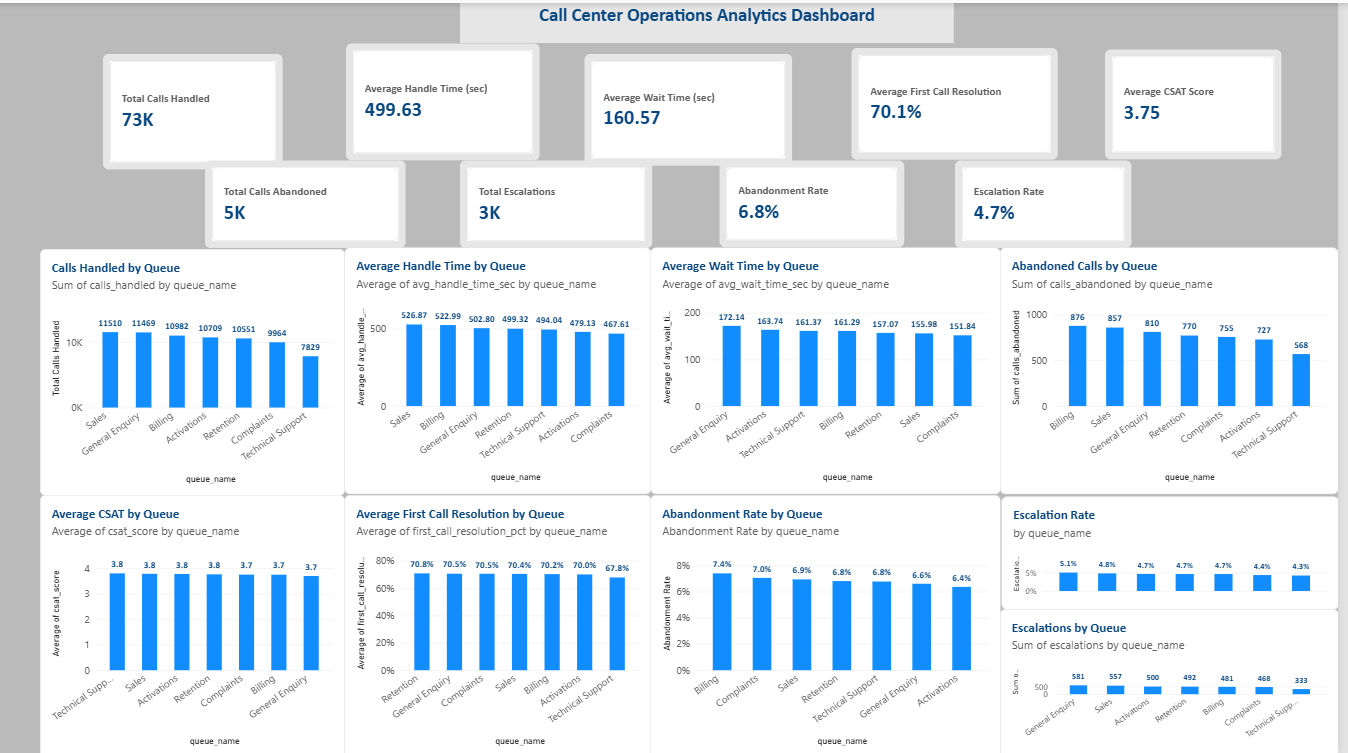

Layout of this report page (visuals, bound fields, positions):
{"tool":"powerbi","page":{"name":"Page 1","canvas":[1920,1080],"ordinal":0},"visuals":[{"type":"clusteredColumnChart","title":"Calls Handled by Queue","fields":{"Category":["call-center-performance.queue_name"],"Y":["Sum(call-center-performance.calls_handled)"]},"box":[60,352.5,436.6,353.1],"z":0},{"type":"clusteredColumnChart","title":"Average Handle Time by Queue","fields":{"Category":["call-center-performance.queue_name"],"Y":["Avg(call-center-performance.avg_handle_time_sec)"]},"box":[496.3,350.7,439,353.1],"z":1000},{"type":"clusteredColumnChart","title":"Average Wait Time by Queue","fields":{"Category":["call-center-performance.queue_name"],"Y":["Avg(call-center-performance.avg_wait_time_sec)"]},"box":[935.3,350.7,501,353.1],"z":2000},{"type":"clusteredColumnChart","title":"Average First Call Resolution by Queue","fields":{"Category":["call-center-performance.queue_name"],"Y":["Avg(call-center-performance.first_call_resolution_pct)"]},"box":[496.3,703.8,439,377],"z":3000},{"type":"clusteredColumnChart","title":"Average CSAT by Queue","fields":{"Category":["call-center-performance.queue_name"],"Y":["Avg(call-center-performance.csat_score)"]},"box":[59.6,703.8,436.6,377],"z":4000},{"type":"clusteredColumnChart","title":"Abandoned Calls by Queue","fields":{"Category":["call-center-performance.queue_name"],"Y":["Sum(call-center-performance.calls_abandoned)"]},"box":[1436.3,350.7,484.3,353.1],"z":5000},{"type":"clusteredColumnChart","title":"Escalations by Queue","fields":{"Category":["call-center-performance.queue_name"],"Y":["Sum(call-center-performance.escalations)"]},"box":[1436.3,868.5,484.3,212.3],"z":6000},{"type":"clusteredColumnChart","title":"Abandonment Rate by Queue","fields":{"Category":["call-center-performance.queue_name"],"Y":["call-center-performance.Abandonment Rate"]},"box":[935.3,703.8,501,377],"z":7000},{"type":"clusteredColumnChart","fields":{"Category":["call-center-performance.queue_name"],"Y":["call-center-performance.Escalation Rate"]},"box":[1436.7,706.7,483.3,161.7],"z":8000},{"type":"textbox","box":[662.5,0,707.5,57.5],"z":9000},{"type":"cardVisual","fields":{"Data":["Sum(call-center-performance.calls_handled)"]},"box":[150,72.5,257.5,165],"z":10000},{"type":"cardVisual","fields":{"Data":["Avg(call-center-performance.avg_handle_time_sec)"]},"box":[497.5,57.5,277.5,167.5],"z":11000},{"type":"cardVisual","fields":{"Data":["Avg(call-center-performance.avg_wait_time_sec)"]},"box":[840,72.5,297.5,160],"z":12000},{"type":"cardVisual","fields":{"Data":["Avg(call-center-performance.first_call_resolution_pct)"]},"box":[1222.5,65,295,160],"z":13000},{"type":"cardVisual","fields":{"Data":["Avg(call-center-performance.csat_score)"]},"box":[1585,67.5,252.5,157.5],"z":14000},{"type":"cardVisual","fields":{"Data":["Sum(call-center-performance.calls_abandoned)"]},"box":[297.5,225,287.5,125],"z":15000},{"type":"cardVisual","fields":{"Data":["Sum(call-center-performance.escalations)"]},"box":[662.5,225,275,125],"z":16000},{"type":"cardVisual","fields":{"Data":["call-center-performance.Abandonment Rate"]},"box":[1032.5,225,264.7,124.1],"z":17000},{"type":"cardVisual","fields":{"Data":["call-center-performance.Escalation Rate"]},"box":[1370,225,252.5,125],"z":18000}]}

Visuals, with their boxes in screenshot pixels (x1, y1, x2, y2), scaled from the page's 1920x1080 canvas onto the 1348x753 screenshot:
"Calls Handled by Queue" clusteredColumnChart: <bbox>42, 246, 349, 492</bbox>
"Average Handle Time by Queue" clusteredColumnChart: <bbox>348, 245, 657, 491</bbox>
"Average Wait Time by Queue" clusteredColumnChart: <bbox>657, 245, 1008, 491</bbox>
"Average First Call Resolution by Queue" clusteredColumnChart: <bbox>348, 491, 657, 752</bbox>
"Average CSAT by Queue" clusteredColumnChart: <bbox>42, 491, 348, 752</bbox>
"Abandoned Calls by Queue" clusteredColumnChart: <bbox>1008, 245, 1347, 491</bbox>
"Escalations by Queue" clusteredColumnChart: <bbox>1008, 606, 1347, 752</bbox>
"Abandonment Rate by Queue" clusteredColumnChart: <bbox>657, 491, 1008, 752</bbox>
clusteredColumnChart - call-center-performance.queue_name x call-center-performance.Escalation Rate: <bbox>1009, 493, 1347, 605</bbox>
textbox: <bbox>465, 0, 962, 40</bbox>
cardVisual - Sum(call-center-performance.calls_handled): <bbox>105, 51, 286, 166</bbox>
cardVisual - Avg(call-center-performance.avg_handle_time_sec): <bbox>349, 40, 544, 157</bbox>
cardVisual - Avg(call-center-performance.avg_wait_time_sec): <bbox>590, 51, 799, 162</bbox>
cardVisual - Avg(call-center-performance.first_call_resolution_pct): <bbox>858, 45, 1065, 157</bbox>
cardVisual - Avg(call-center-performance.csat_score): <bbox>1113, 47, 1290, 157</bbox>
cardVisual - Sum(call-center-performance.calls_abandoned): <bbox>209, 157, 411, 244</bbox>
cardVisual - Sum(call-center-performance.escalations): <bbox>465, 157, 658, 244</bbox>
cardVisual - call-center-performance.Abandonment Rate: <bbox>725, 157, 911, 243</bbox>
cardVisual - call-center-performance.Escalation Rate: <bbox>962, 157, 1139, 244</bbox>
